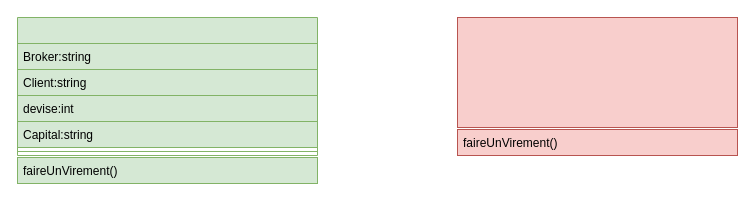
This 755x204 diagram has some shape labels left out. The box of each missing label's shape, as (x1, y1, x2, y2) in pixels:
boursiere broker = "raphael" Capital = 9999999999 Client= Samba Devise:Euros: (456, 16, 738, 128)
TransactionBoursiere: (16, 16, 318, 156)
